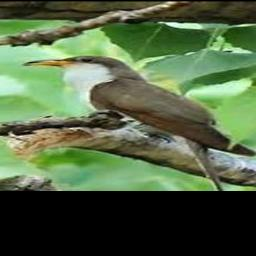Cuckoo: (21, 55, 256, 190)
